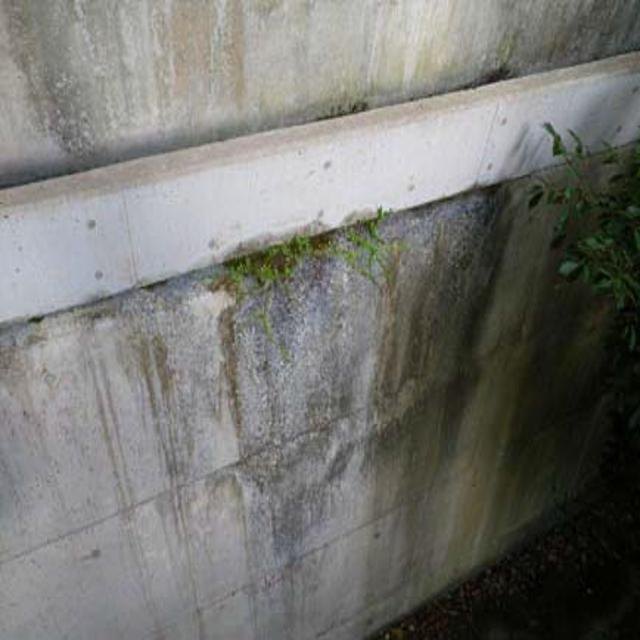leakage: (211, 190, 523, 559)
